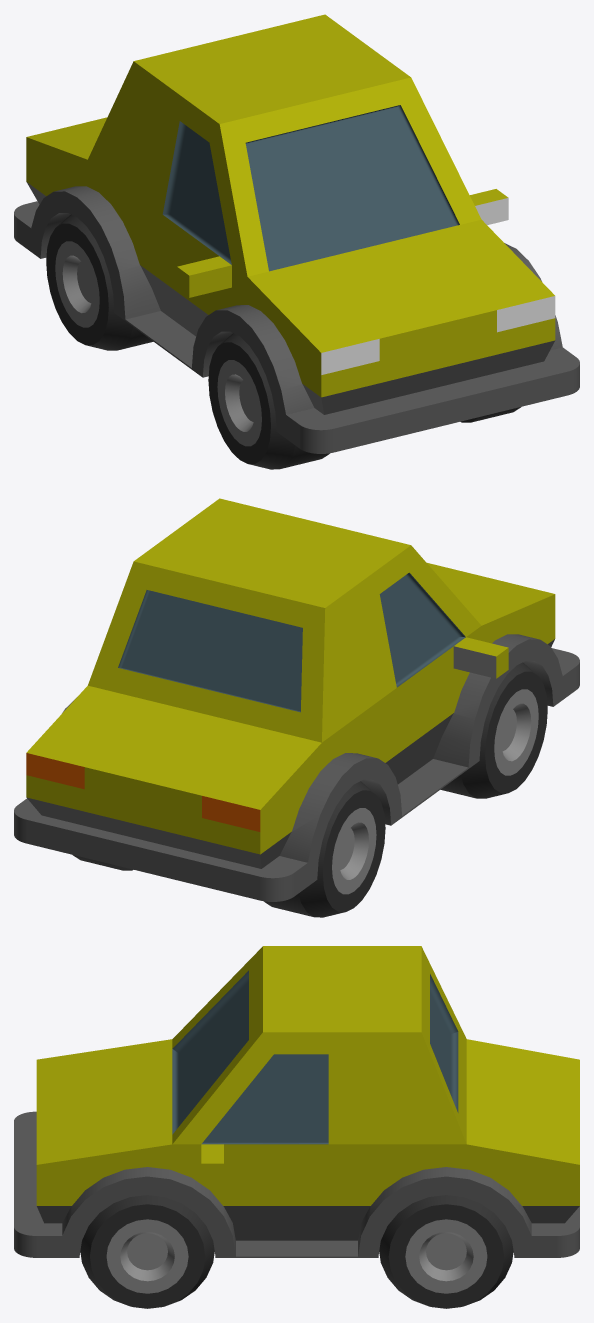
Rendered from 63 Car_3.fbx.
3 renders of one model, top to bottom at view 1: azimuth 30°, elevation 25°; view 2: azimuth 150°, elevation 25°; view 3: azimuth 270°, elevation 25°, orthographic. The views are drawn at different scales.
Parts seen in each view (by area): view 1: Car_3; view 2: Car_3; view 3: Car_3.
Part boxes in pixels (x1,y1,x2,y2): Car_3: [14, 14, 579, 469]; Car_3: [14, 498, 579, 917]; Car_3: [14, 946, 579, 1308].
Bounding box in the file's own units: 33.75 × 29.25 × 56.25.
